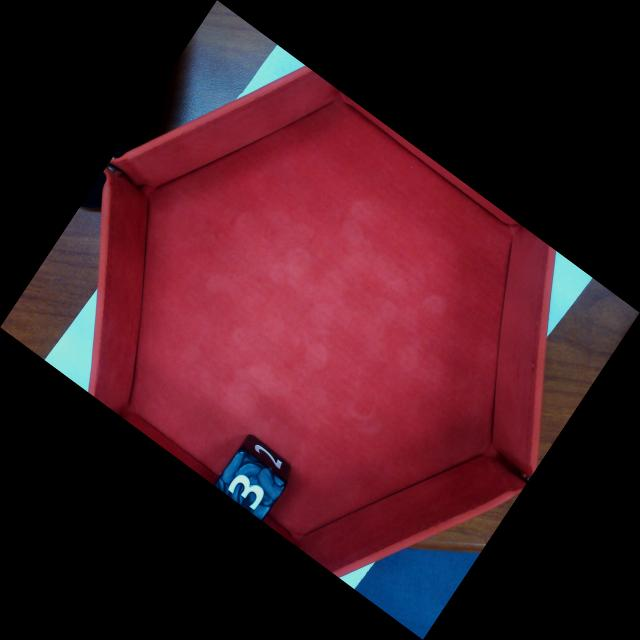dice: (212, 444, 290, 522)
